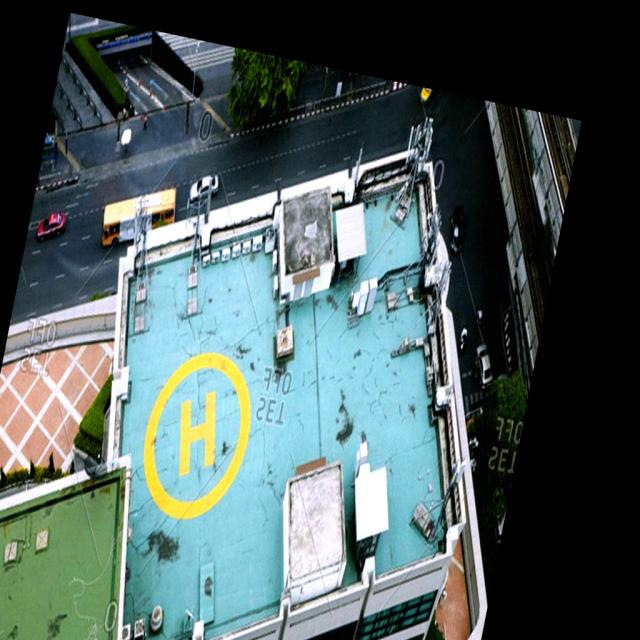helipad: (139, 350, 254, 522)
